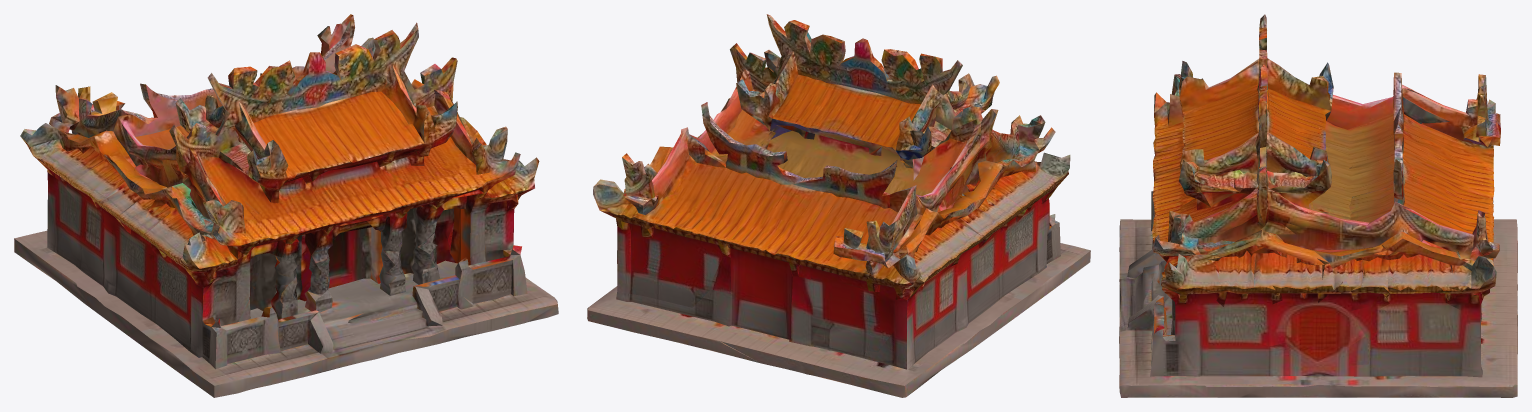
Rendered from sanxia-zushi-temple.glb.
3 renders of one model, left to right at view 1: azimuth 30°, elevation 25°; view 2: azimuth 150°, elevation 25°; view 3: azimuth 270°, elevation 25°, orthographic. The views are drawn at different scales.
Visible parts, largest first — view 1: logan-textured.obj; view 2: logan-textured.obj; view 3: logan-textured.obj.
Part boxes in pixels (x1,y1,x2,y2): logan-textured.obj: (14, 14, 558, 397); logan-textured.obj: (587, 14, 1090, 397); logan-textured.obj: (1119, 14, 1517, 397).
Size of the model in its own units: 1 by 0.6852 by 0.9824.
1 material, 1 textured.
